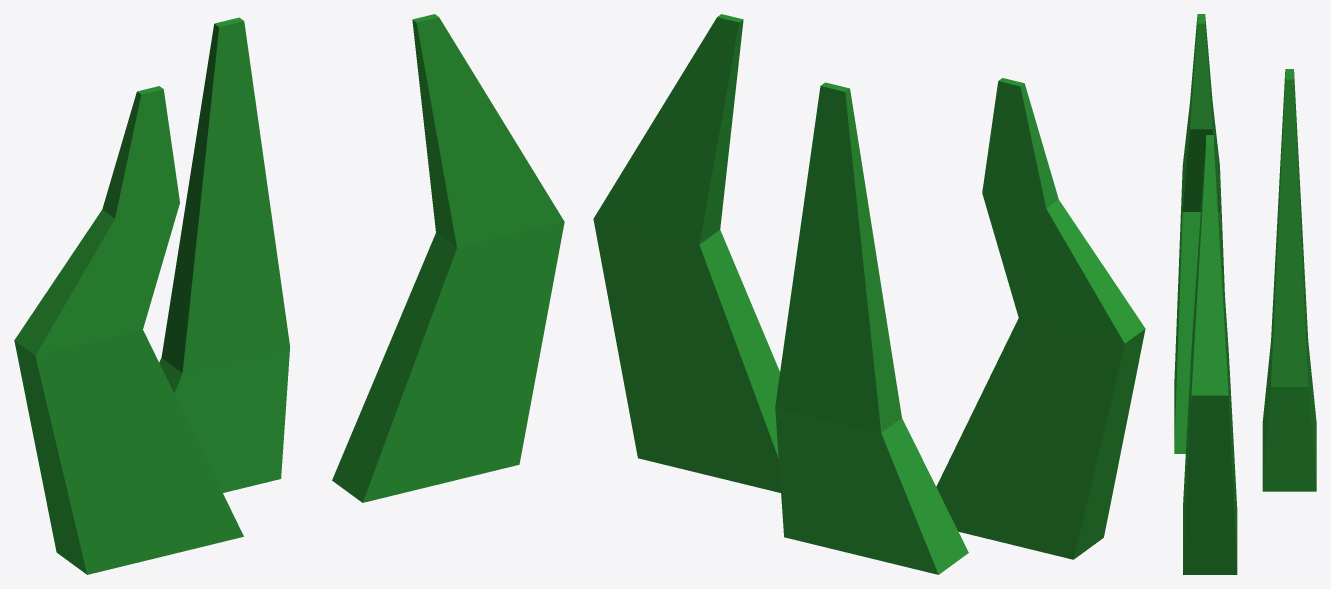
Rendered from Grass2.fbx.
3 views of the same model, side by side, from view 1: azimuth 30°, elevation 25°; view 2: azimuth 150°, elevation 25°; view 3: azimuth 270°, elevation 25° (orthographic). The views are drawn at different scales.
Visible parts, largest first — view 1: Cube; view 2: Cube; view 3: Cube.
Boxes of the visible parts, x1,y1,x2,y2 form: Cube: (14,14,564,574); Cube: (593,14,1145,574); Cube: (1174,14,1316,574).
Bounding box in the file's own units: 265 × 215 × 69.23.
